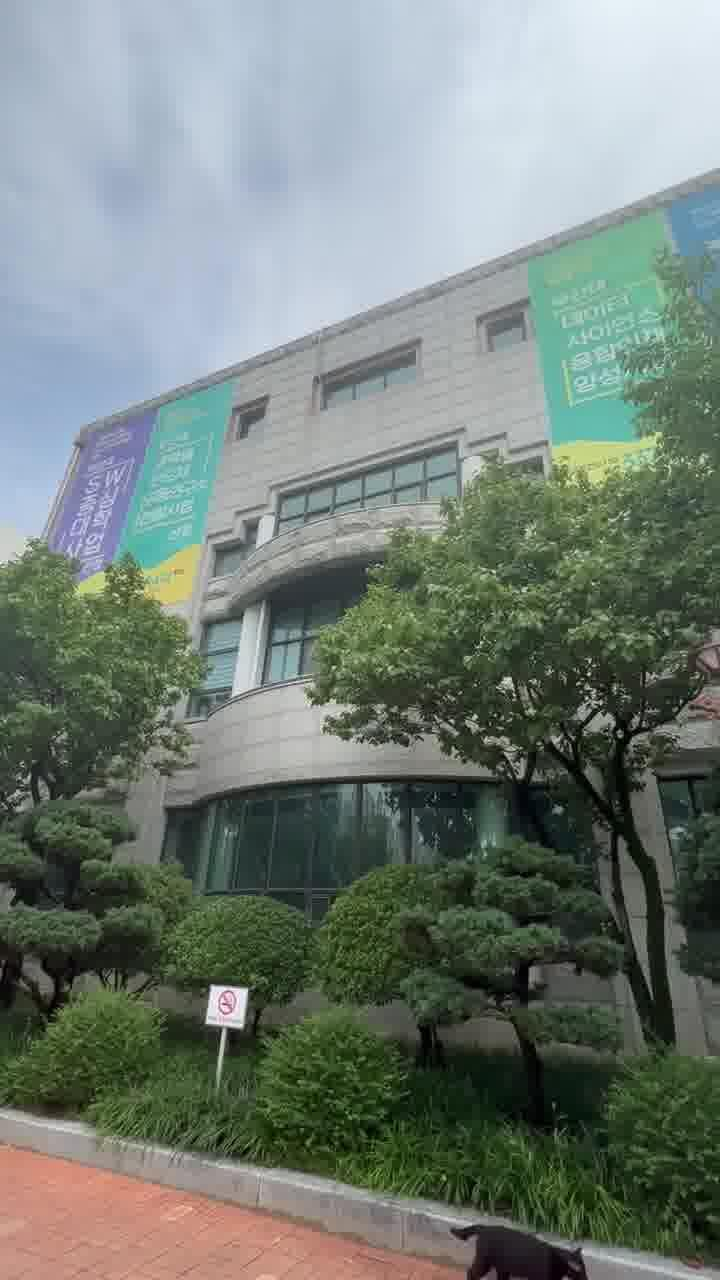building: (164, 340, 432, 792)
